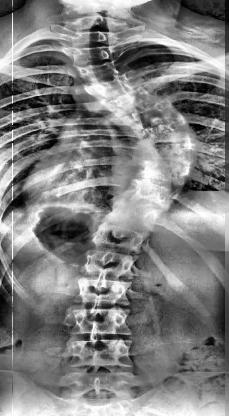Vertebrae: (64, 370, 138, 401), (132, 98, 188, 138), (74, 274, 136, 310), (83, 244, 139, 282), (72, 304, 134, 338), (91, 219, 149, 255), (110, 190, 162, 228), (70, 338, 134, 368), (126, 178, 178, 210), (94, 74, 139, 110), (112, 86, 161, 118), (72, 61, 121, 90), (146, 160, 196, 186), (66, 44, 116, 70), (149, 142, 199, 166), (150, 122, 194, 146), (67, 30, 113, 48)
